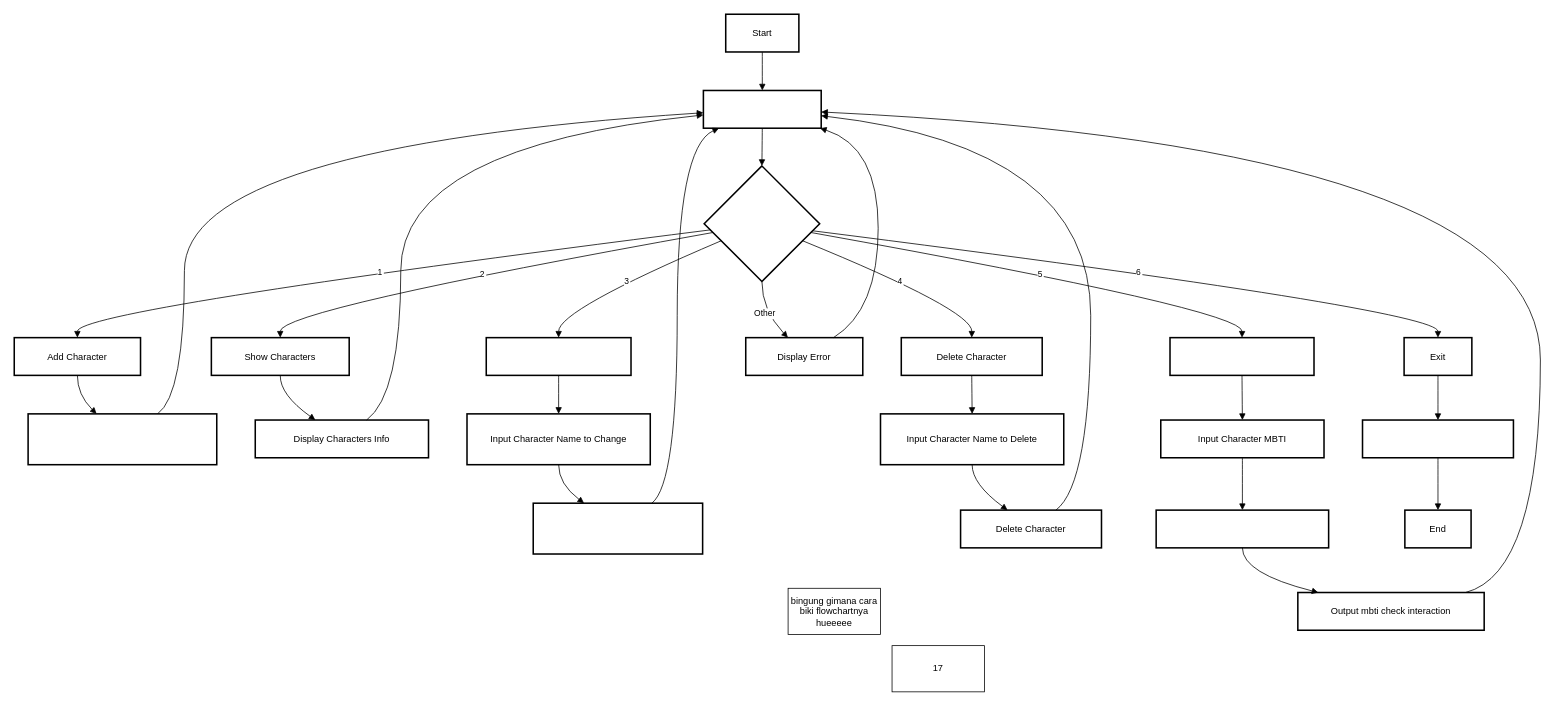
The diagram is 1554 pixels wide and 705 high, and some of its shapes have lost their labels. The shapes that lost their labels are listed below. From the top down, each one's centre as x and y in pixels, then its label:
point 762,109: Display Menu
point 761,223: Choose option
point 558,356: Change Character
point 1241,356: Check Interaction
point 122,439: Input Name, Age, Gender, MBTI
point 1437,438: "Thank you for using the program, we'll see you later, adios!"
point 617,528: Input New Name, Age, Gender, MBTI
point 1242,528: Input Con-Mbti
